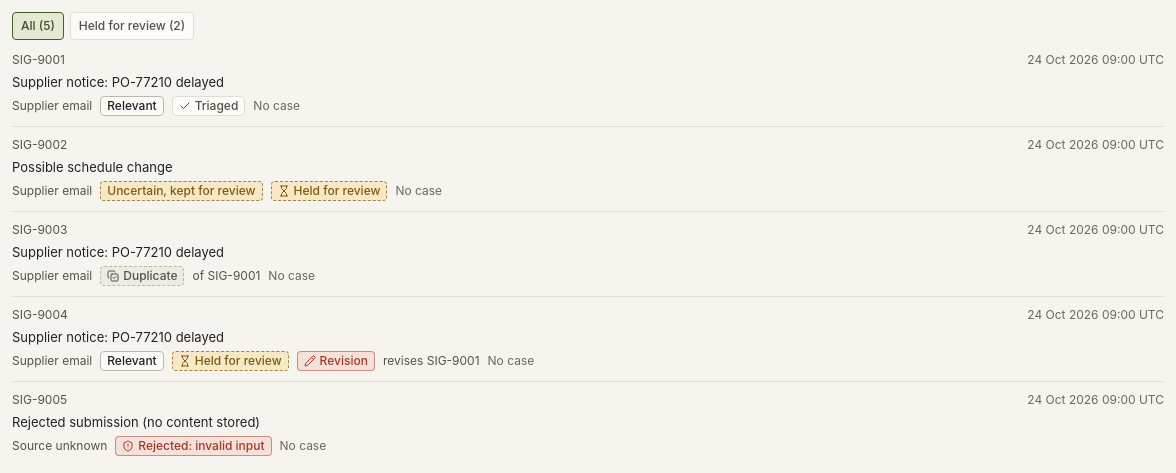
Scenario: RecentSignals (Phase 2 handling) › filters to held-for-review signals with an accessible pressed state, and can return to all
The image size is (1176, 473).
Click the button "Held for review (2)" at (132, 26), box x1=70 y1=12 x2=194 y2=40
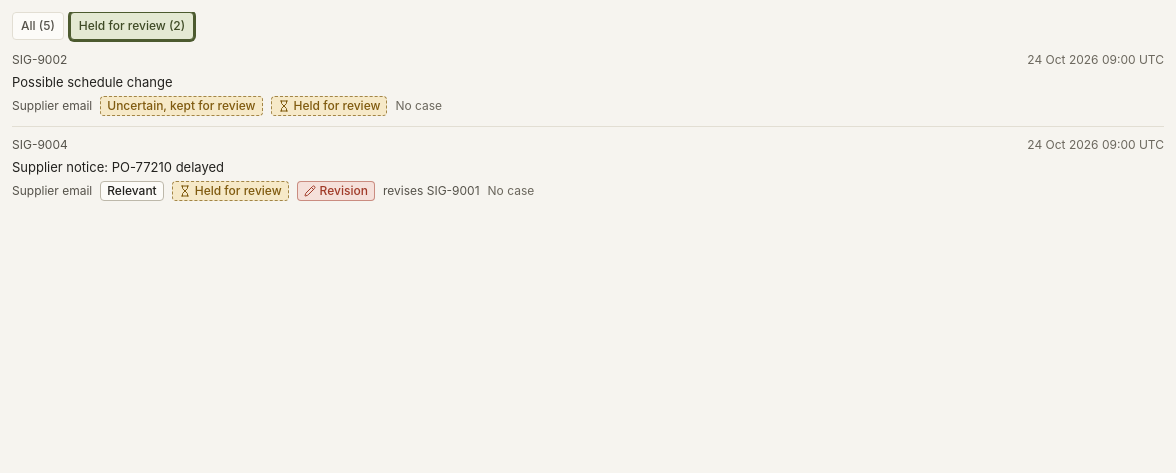
expect the text "SIG-9002" is shown: met, box x1=12 y1=52 x2=67 y2=68
expect the number of list items is 2: met, box x1=12 y1=52 x2=1164 y2=127; x1=12 y1=127 x2=1164 y2=201
Click the button "All (5)" at (38, 26), box x1=12 y1=12 x2=64 y2=40
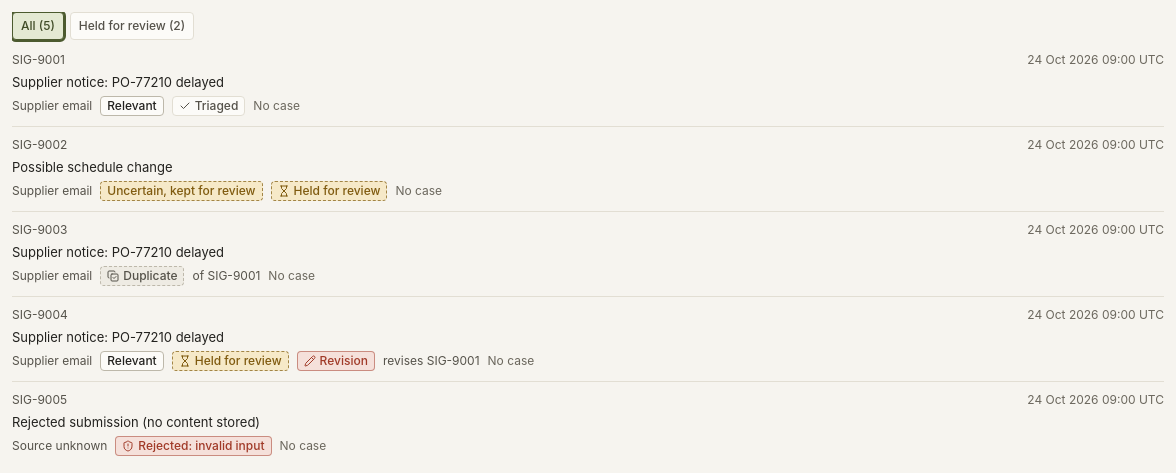
expect the number of list items is 5: met, box x1=12 y1=52 x2=1164 y2=127; x1=12 y1=127 x2=1164 y2=212; x1=12 y1=212 x2=1164 y2=297; x1=12 y1=297 x2=1164 y2=382; x1=12 y1=382 x2=1164 y2=456
